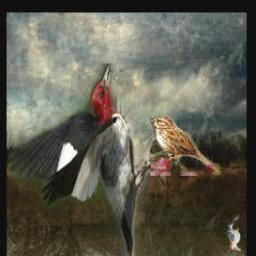Sparrow: (149, 113, 221, 176)
Woodpecker: (8, 65, 166, 256), (227, 215, 243, 252)
